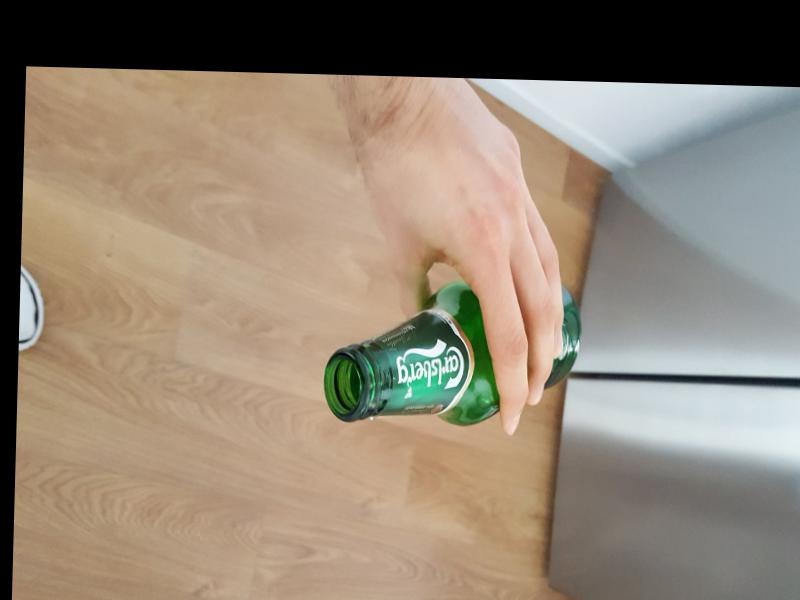Beer: (322, 278, 581, 427)
